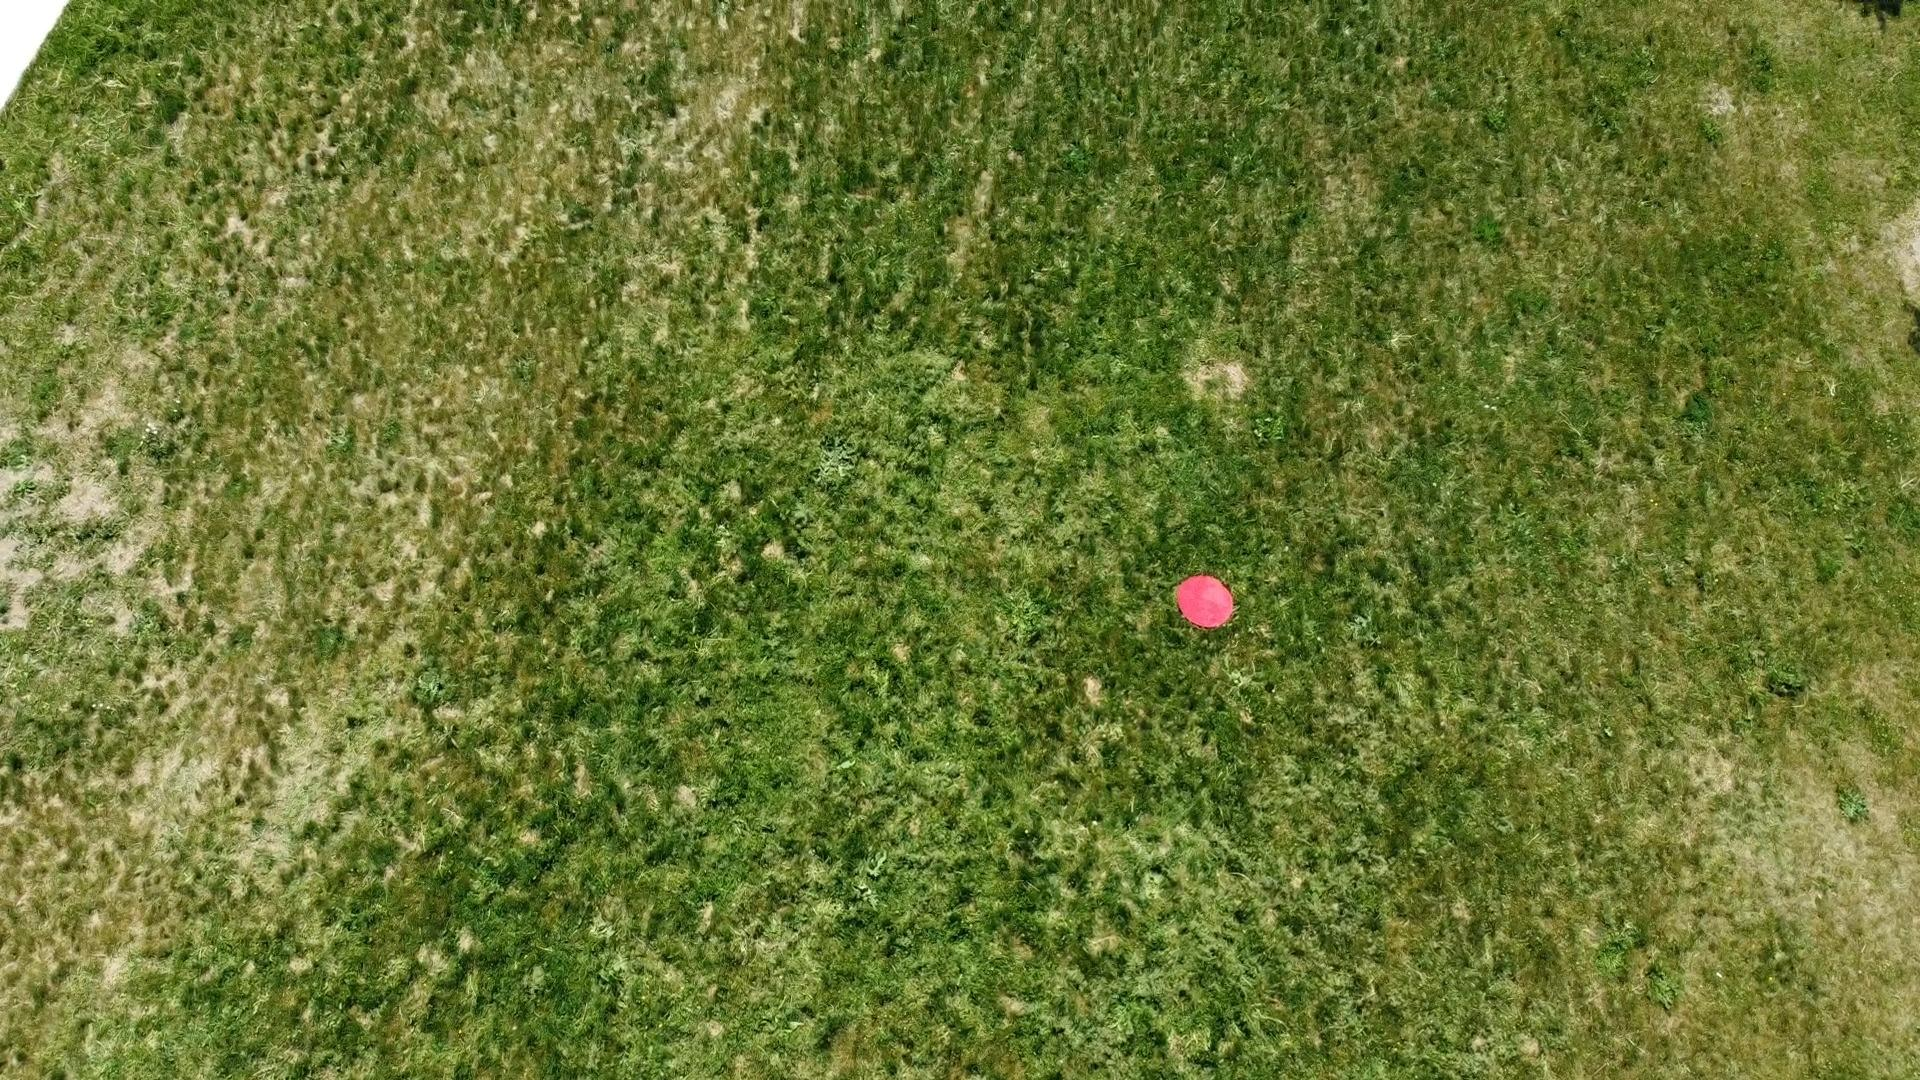Red: (1175, 571, 1237, 629)
